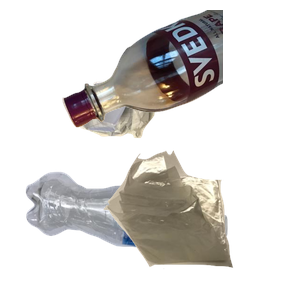glass: (60, 10, 300, 130)
paper: (68, 66, 215, 197)
plastic: (23, 169, 243, 300)
trash: (101, 148, 300, 300)
